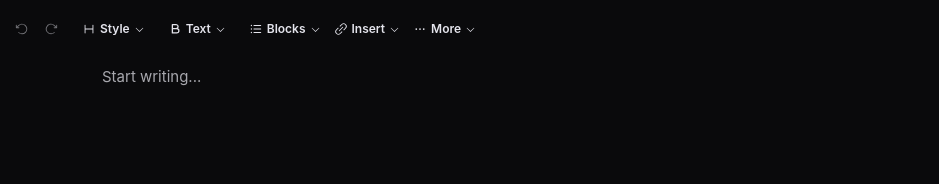
Scenario: DocumentEditor find and replace › inserts rich document local tag smart inserts from the @ menu
Step 1. Type "@ref" into the field named "Document editor" → (512, 83), box [102,64,922,102]
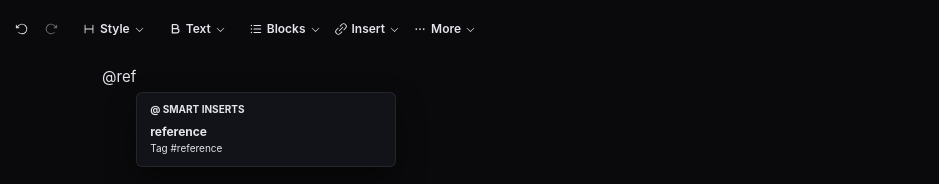
Result: the option "reference Tag #reference" is shown
Step 2. Click the option "reference Tag #reference" → (266, 140), box [142,119,390,161]
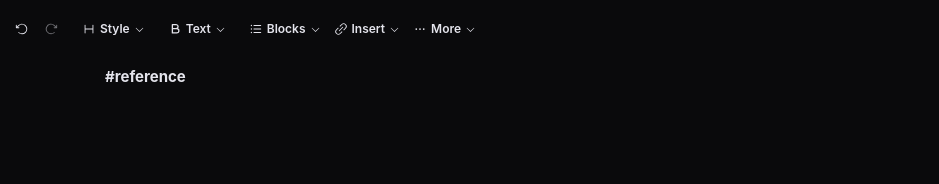
Result: the text box labelled "#reference" is shown at [102,67,189,86]
Result: the field no longer shows "@ref"
